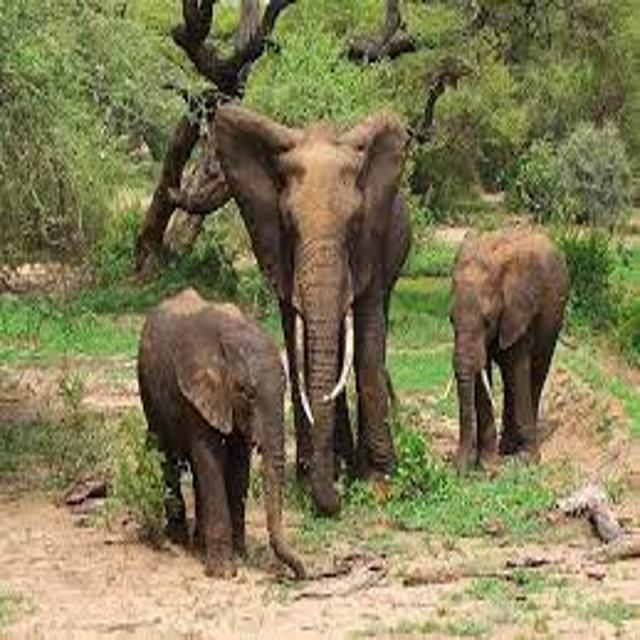elephant: (191, 55, 447, 552), (104, 273, 350, 599), (411, 196, 610, 500)
